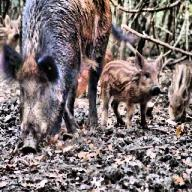boar: (0, 0, 112, 153), (98, 51, 172, 130)
